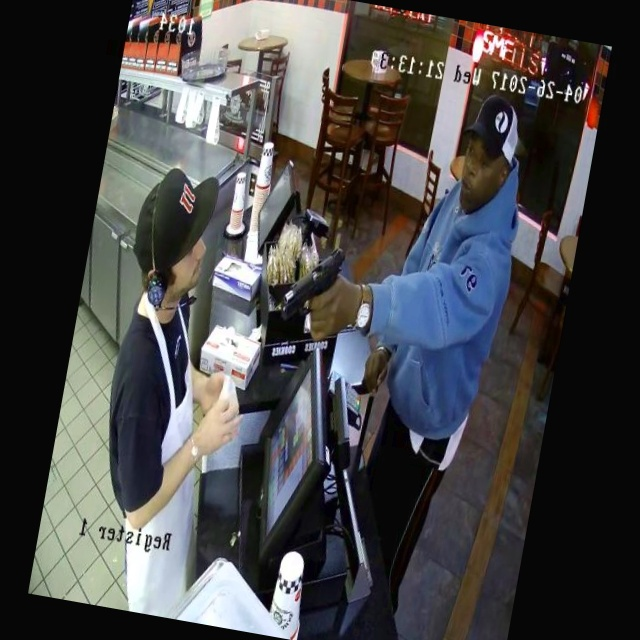gun: (264, 225, 365, 337)
